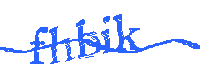b: (76, 19, 101, 59)
f: (29, 28, 48, 65)
h: (49, 27, 74, 65)
i: (101, 16, 113, 54)
k: (113, 14, 141, 54)
